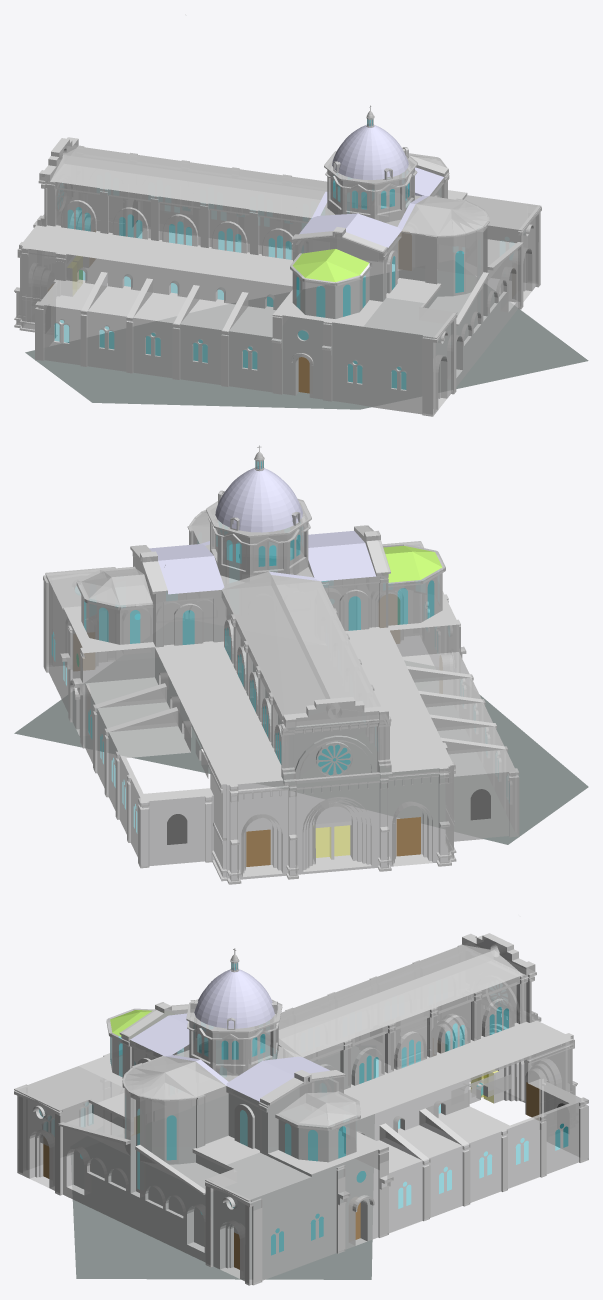
The model's file is manila_cathedral.glb.
3 renders of one model, top to bottom at view 1: azimuth 30°, elevation 25°; view 2: azimuth 150°, elevation 25°; view 3: azimuth 270°, elevation 25°, orthographic. The views are drawn at different scales.
Parts seen in each view (by area): view 1: Node7, Node5, Node931, Node9, Node4, Node3520, Node3973, Node8, Node5810, Node2326, Node2082, Node2686 (+45 smaller); view 2: Node5668, Node5, Node9, Node931, Node4, Node2082, Node3520, Node2323, Node2602, Node5810, Node7, Node2326 (+55 smaller); view 3: Node7, Node9, Node5668, Node5, Node8, Node2082, Node2323, Node2602, Node5524, Node3520, Node3973, Node1237 (+53 smaller).
Boxes of the visible parts, x1=… form: Node7: x1=222, y1=306, x2=587, y2=409; Node5: x1=92, y1=306, x2=359, y2=409; Node931: x1=19, y1=225, x2=292, y2=286; Node9: x1=223, y1=268, x2=538, y2=323; Node4: x1=25, y1=306, x2=218, y2=402; Node3520: x1=50, y1=164, x2=319, y2=217; Node3973: x1=332, y1=332, x2=422, y2=405; Node8: x1=228, y1=306, x2=588, y2=360; Node5810: x1=53, y1=181, x2=324, y2=217; Node2326: x1=51, y1=155, x2=324, y2=191; Node2082: x1=71, y1=145, x2=326, y2=190; Node2686: x1=64, y1=156, x2=324, y2=199; Node5668: x1=63, y1=606, x2=282, y2=786; Node5: x1=283, y1=681, x2=588, y2=788; Node9: x1=14, y1=661, x2=279, y2=787; Node931: x1=345, y1=627, x2=453, y2=772; Node4: x1=289, y1=787, x2=588, y2=844; Node2082: x1=223, y1=586, x2=332, y2=722; Node3520: x1=277, y1=582, x2=379, y2=712; Node2323: x1=222, y1=575, x2=284, y2=716; Node2602: x1=271, y1=575, x2=334, y2=714; Node5810: x1=271, y1=575, x2=380, y2=706; Node7: x1=227, y1=651, x2=435, y2=788; Node2326: x1=271, y1=575, x2=378, y2=708; Node7: x1=71, y1=1147, x2=345, y2=1278; Node9: x1=186, y1=1160, x2=373, y2=1279; Node5668: x1=268, y1=1020, x2=573, y2=1174; Node5: x1=92, y1=1091, x2=343, y2=1147; Node8: x1=77, y1=1159, x2=356, y2=1279; Node2082: x1=281, y1=960, x2=525, y2=1056; Node2323: x1=278, y1=975, x2=521, y2=1056; Node2602: x1=278, y1=950, x2=522, y2=1030; Node5524: x1=262, y1=1178, x2=336, y2=1271; Node3520: x1=279, y1=945, x2=480, y2=1028; Node3973: x1=28, y1=1073, x2=103, y2=1159; Node1237: x1=87, y1=1172, x2=183, y2=1242.
Bounding box in the file's own units: 3542 × 1797 × 3571.
